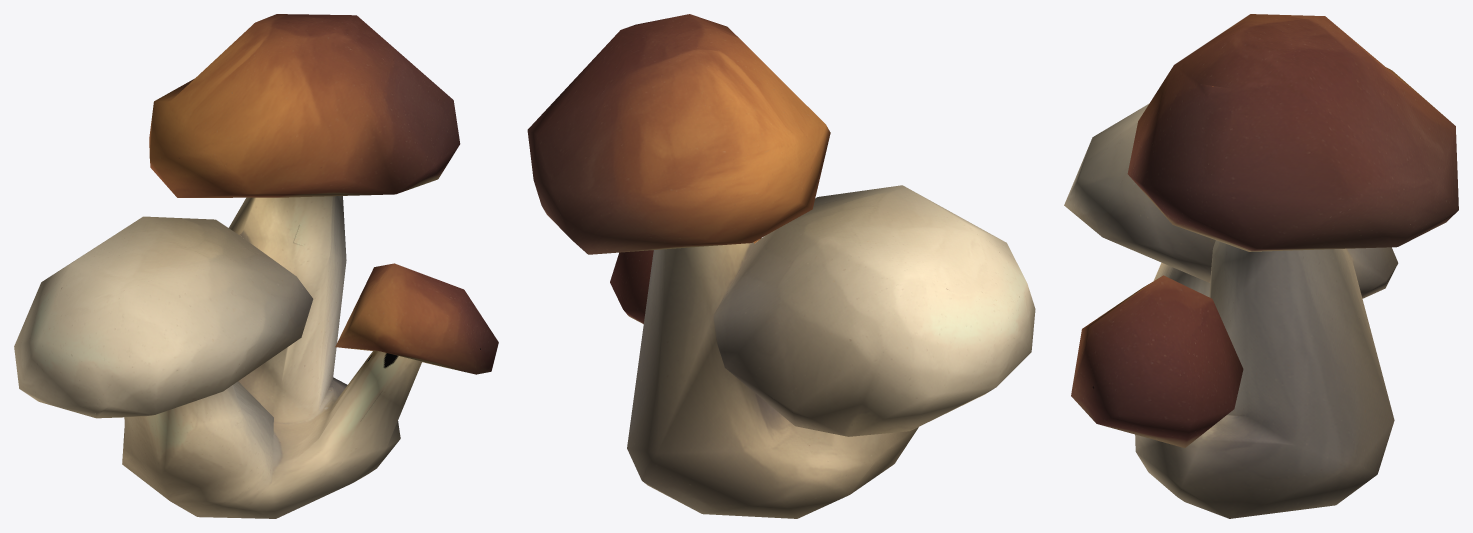
The model's file is mushrooms.glb.
3 renders of one model, left to right at view 1: azimuth 30°, elevation 25°; view 2: azimuth 150°, elevation 25°; view 3: azimuth 270°, elevation 25°, orthographic. The views are drawn at different scales.
Parts seen in each view (by area): view 1: geometry_0.001; view 2: geometry_0.001; view 3: geometry_0.001.
Part boxes in pixels (x1,y1,x2,y2): geometry_0.001: [14, 14, 498, 518]; geometry_0.001: [527, 14, 1035, 518]; geometry_0.001: [1064, 14, 1458, 518].
Size of the model in its own units: 1.99 by 1.92 by 1.44.
1 material, 1 textured.
